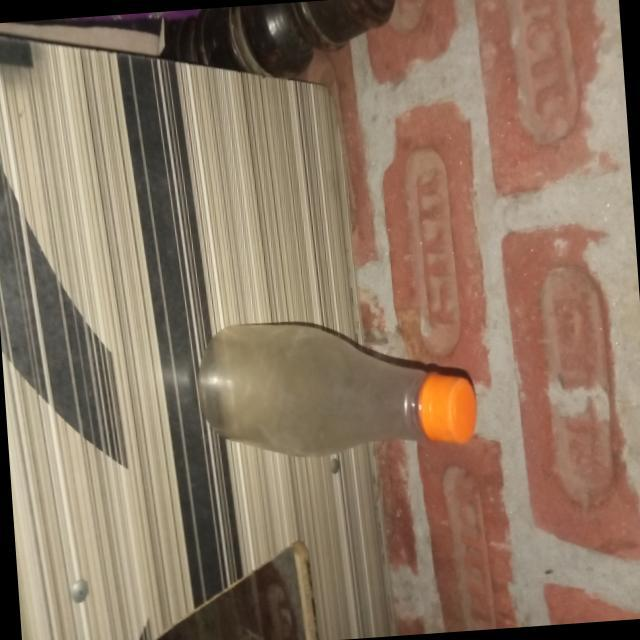good: (188, 298, 483, 476)
